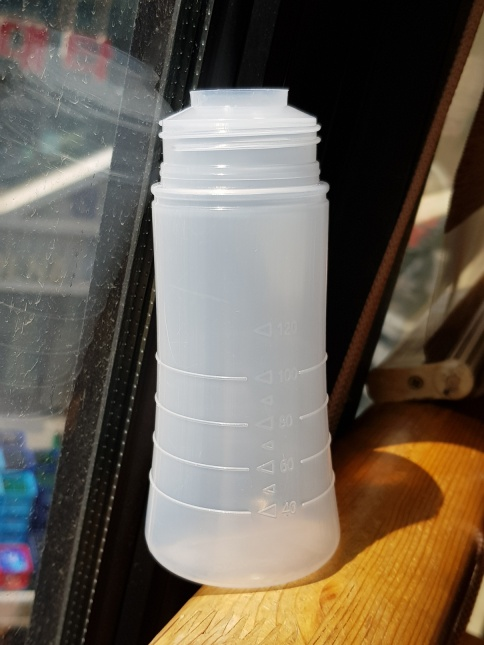Plastic: (133, 80, 349, 596)
